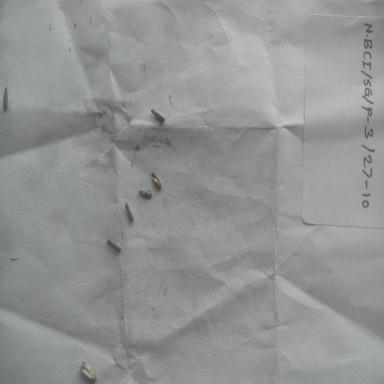pbw: (79, 360, 98, 382), (123, 200, 135, 223), (150, 169, 162, 191), (1, 86, 11, 111), (106, 238, 122, 253), (150, 108, 166, 123), (138, 187, 154, 198)
